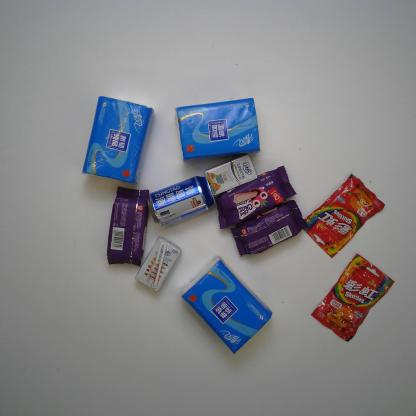Alcohol: (143, 174, 217, 228)
Candy: (309, 253, 396, 344), (301, 170, 387, 260)
Dessert: (214, 164, 299, 230), (230, 199, 309, 258), (104, 187, 154, 268)
Milk: (134, 234, 184, 292), (203, 153, 260, 197)
Tissue: (180, 254, 273, 356), (80, 94, 154, 186), (174, 95, 262, 164)
